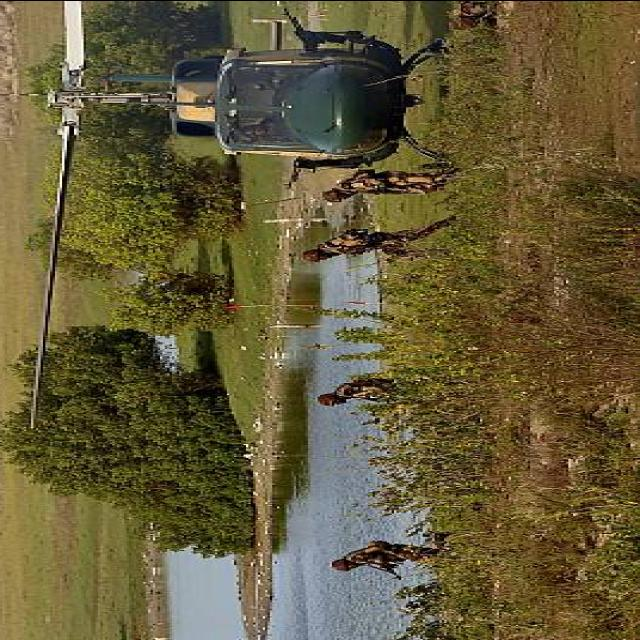soldier: (301, 216, 454, 261), (329, 532, 449, 579), (322, 169, 454, 202), (318, 378, 396, 406)
